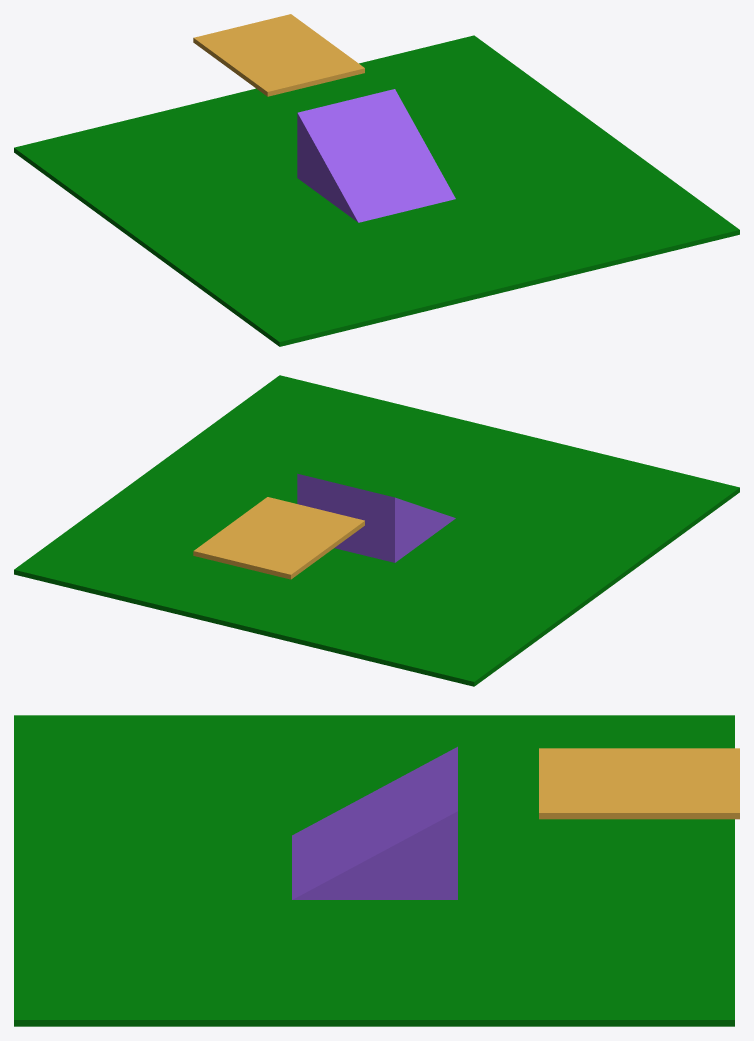
File: goweti.glb
3 views of the same model, one above another, from view 1: azimuth 30°, elevation 25°; view 2: azimuth 150°, elevation 25°; view 3: azimuth 270°, elevation 25° (orthographic). The views are drawn at different scales.
Parts seen in each view (by area): view 1: BaseCube, Ramp, FloatingPlatform; view 2: BaseCube, FloatingPlatform, Ramp; view 3: BaseCube, Ramp, FloatingPlatform.
Part boxes in pixels (x1,y1,x2,y2): BaseCube: [14, 35, 739, 346]; Ramp: [297, 89, 455, 222]; FloatingPlatform: [193, 14, 364, 96]; BaseCube: [14, 375, 739, 686]; FloatingPlatform: [193, 497, 364, 579]; Ramp: [297, 473, 455, 562]; BaseCube: [14, 715, 734, 1026]; Ramp: [292, 746, 457, 899]; FloatingPlatform: [539, 748, 739, 819].
Bounding box in the file's own units: 50 × 7.3 × 50.35.
